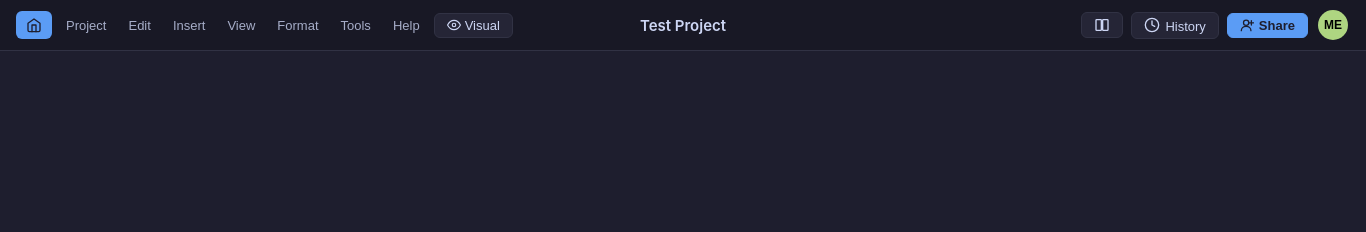
Test: Toolbar › opens Help menu
Click the button "Help" at coordinates (406, 25), box [383,14,430,36]
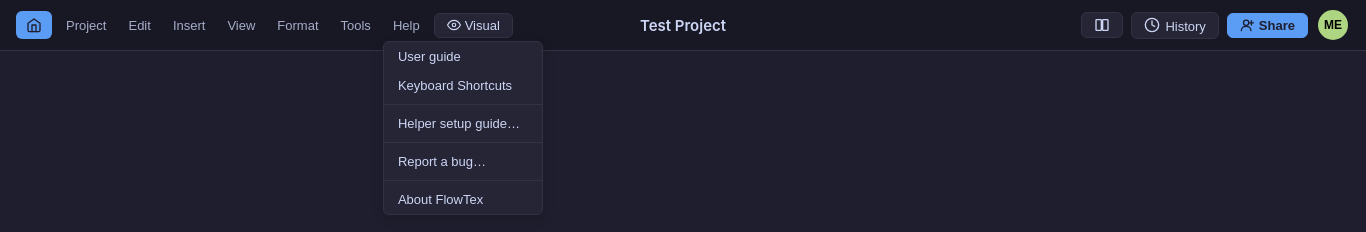
Expected: the button "Keyboard Shortcuts" is shown, [384,70,542,100]
Expected: the button "About FlowTex" is shown, [384,184,542,214]
